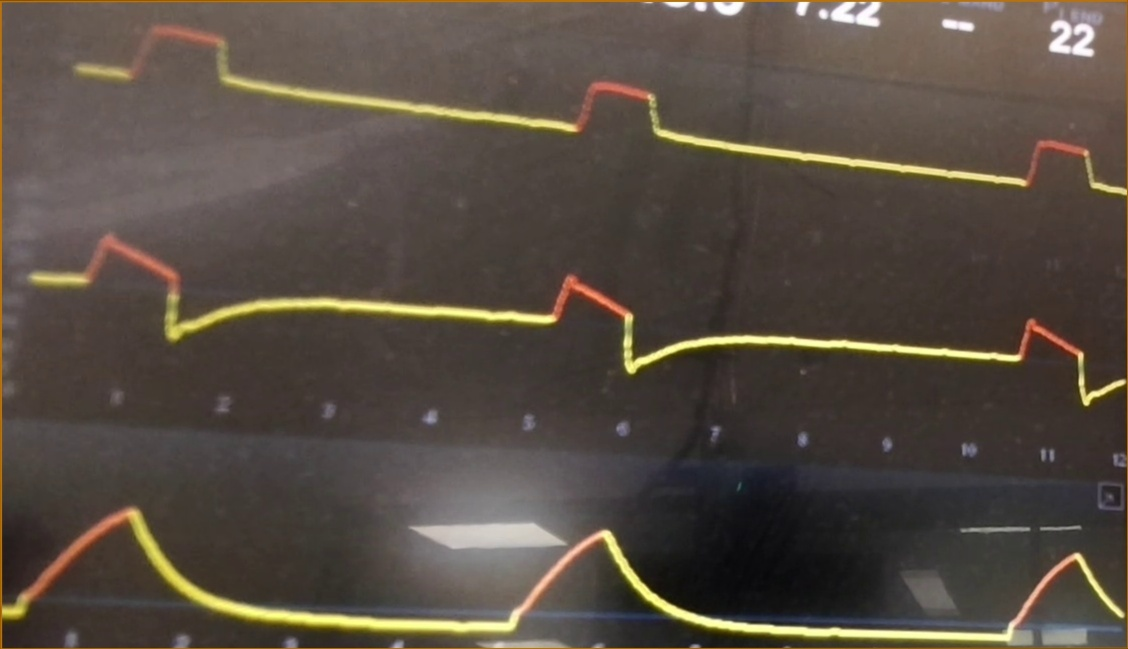Normal Flow: (28, 221, 1127, 410)
Normal Volume: (5, 482, 1122, 644)
